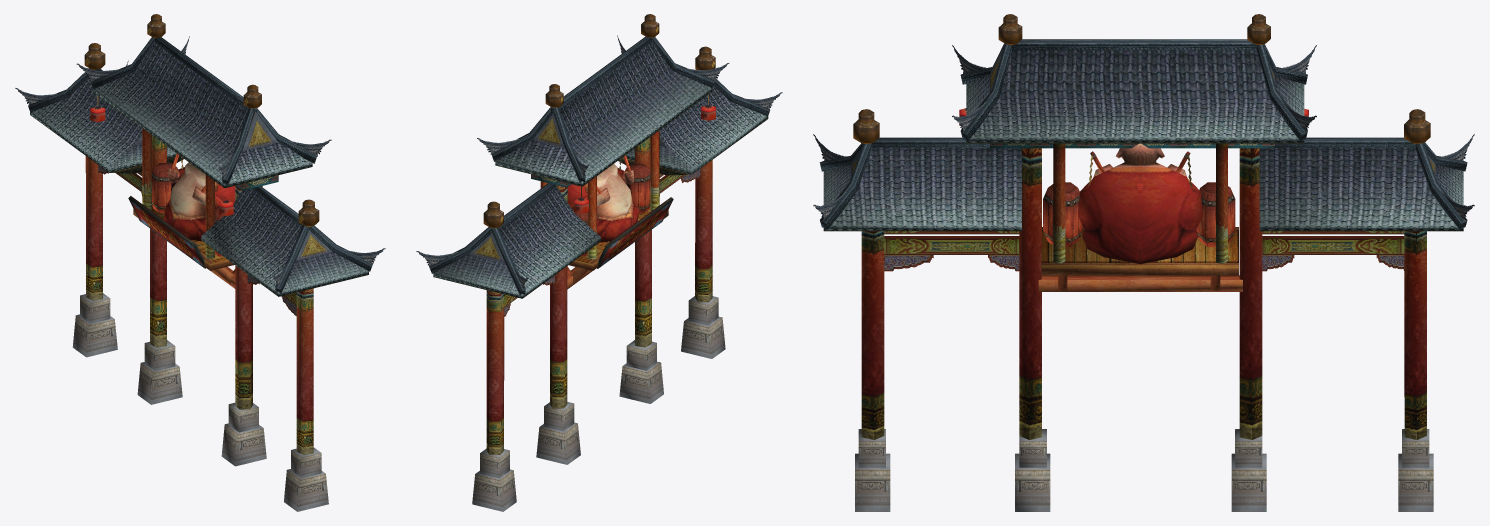
Rendered from cj_adultenter.glb.
The picture shows the model from 3 angles, left to right: view 1: azimuth 30°, elevation 25°; view 2: azimuth 150°, elevation 25°; view 3: azimuth 270°, elevation 25°; orthographic projection. The views are drawn at different scales.
Parts seen in each view (by area): view 1: cj_adultenter_roof, cj_adultenter_column, cj_adultenter_etc, cj_adultenter_toy_light, cj_adultenter_column_light, cj_adultenter_alpha, cj_adultenter_etc2side; view 2: cj_adultenter_roof, cj_adultenter_column, cj_adultenter_etc, cj_adultenter_toy_light, cj_adultenter_column_light, cj_adultenter_alpha, cj_adultenter_etc2side; view 3: cj_adultenter_roof, cj_adultenter_column, cj_adultenter_etc, cj_adultenter_toy_light, cj_adultenter_etc2side, cj_adultenter_alpha, cj_adultenter_column_light.
Part boxes in pixels (x1,y1,x2,y2): cj_adultenter_roof: (28,37,373,296); cj_adultenter_column: (85,111,332,455); cj_adultenter_etc: (72,128,328,511); cj_adultenter_toy_light: (152,153,235,256); cj_adultenter_column_light: (84,14,319,226); cj_adultenter_alpha: (15,36,385,315); cj_adultenter_etc2side: (116,172,296,305); cj_adultenter_roof: (428,36,770,298); cj_adultenter_column: (469,110,715,454); cj_adultenter_etc: (472,130,725,511); cj_adultenter_toy_light: (567,155,650,256); cj_adultenter_column_light: (483,14,715,228); cj_adultenter_alpha: (416,35,782,316); cj_adultenter_etc2side: (504,174,684,307); cj_adultenter_roof: (819,39,1467,231); cj_adultenter_column: (851,46,1435,439); cj_adultenter_etc: (855,143,1433,511); cj_adultenter_toy_light: (1043,143,1235,264); cj_adultenter_etc2side: (884,143,1404,254); cj_adultenter_alpha: (813,45,1474,271); cj_adultenter_column_light: (853,14,1430,143).
Bounding box in the file's own units: 3.35 × 10.58 × 13.02.
9 materials, 9 textured.
